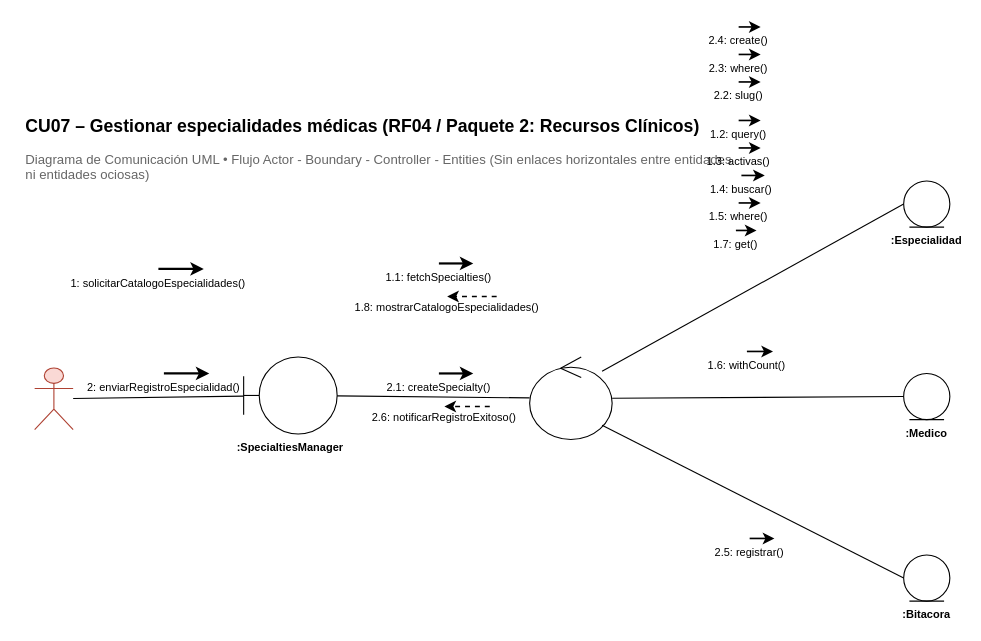
The diagram is 981 pixels wide and 641 high, and some of its shapes have lost their labels. Here are the shapes that lost their labels. From the top down, the box of each, then its label:
(34, 367, 73, 430): :Administrador
(529, 356, 612, 439): :SpecialtiesController
